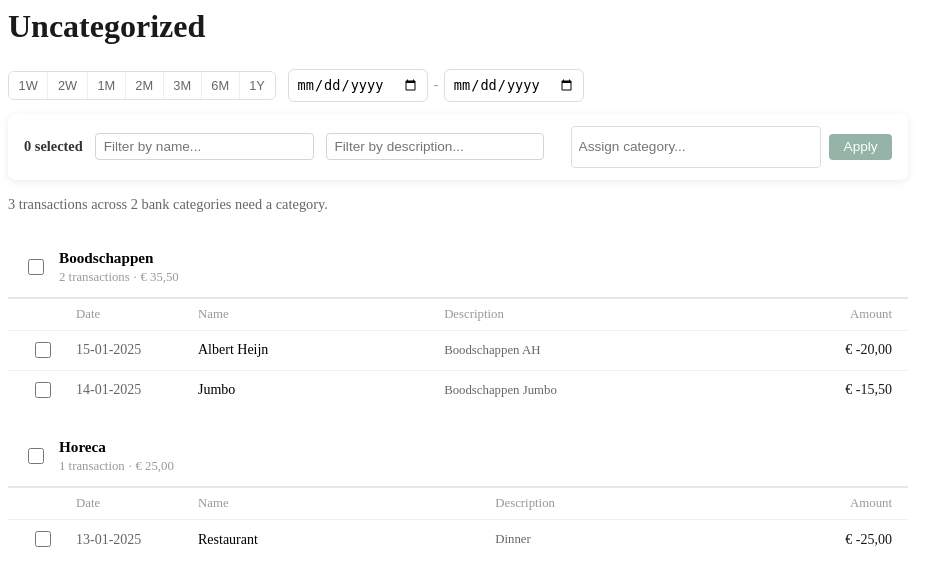
Scenario: Uncategorized Page › selects across multiple groups
expect the text "Albert Heijn" is shown: met, box [182,330,428,370]
tx1 from group1 (index 1) and tx3 from group2 (index 4)
Step 1. Click the checkbox next to "15-01-2025" → (42, 350), box [34,342,50,358]
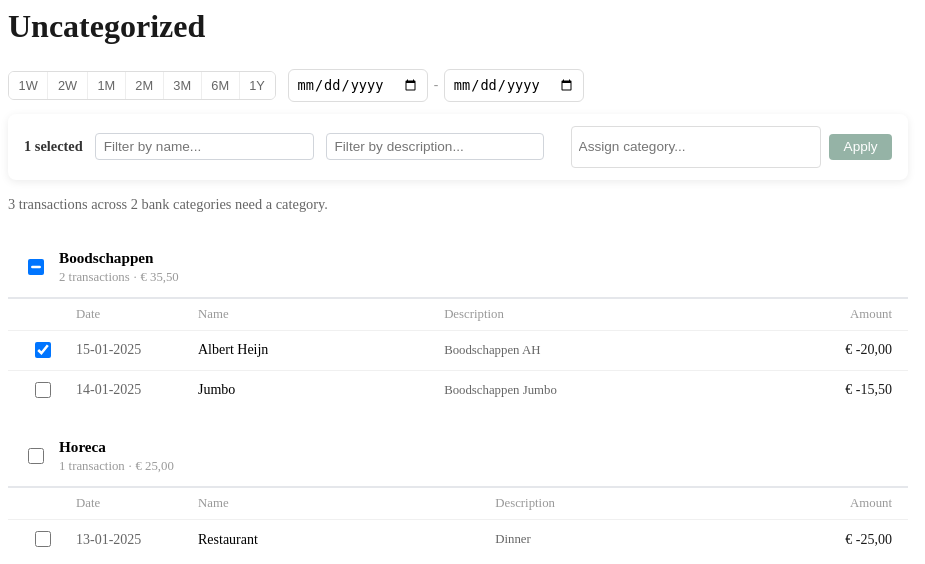
Step 2. Click the checkbox next to "13-01-2025" → (42, 539), box [34,531,50,547]
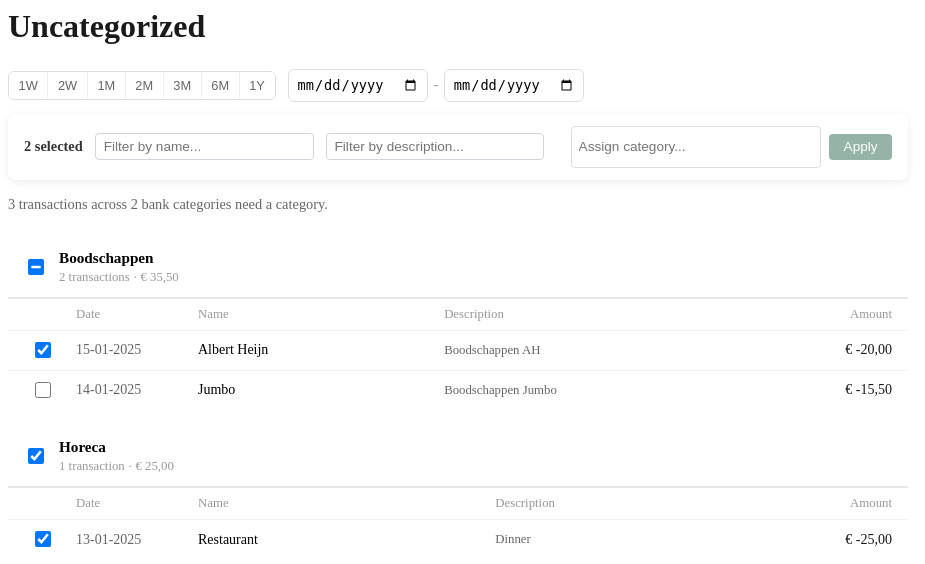
expect the text "2 selected" is shown: met, box [24,138,83,155]
